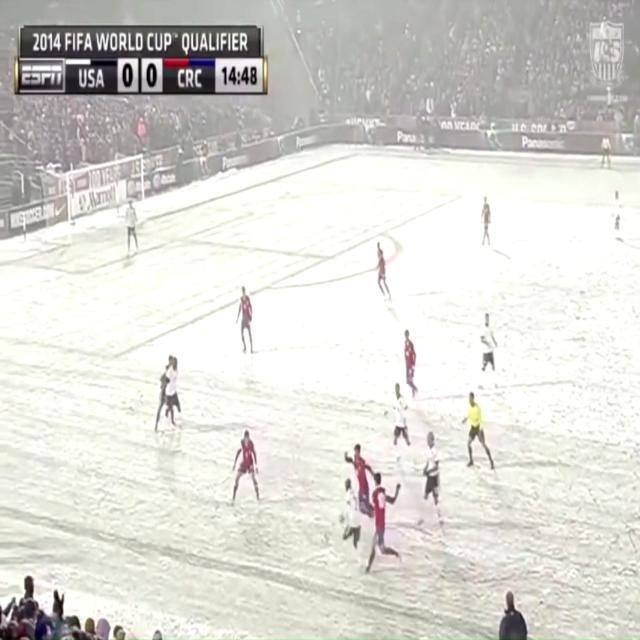ball: (337, 511, 347, 529)
goalkeeper: (123, 194, 144, 262)
player: (420, 417, 449, 541), (369, 465, 400, 577), (231, 424, 263, 516), (476, 297, 504, 394), (352, 434, 382, 522), (387, 373, 417, 461), (398, 324, 423, 401), (343, 475, 365, 561), (237, 287, 262, 358), (372, 238, 396, 308), (157, 354, 175, 434), (478, 186, 498, 256), (166, 358, 184, 427), (610, 191, 628, 251)
referee: (459, 390, 498, 478), (598, 131, 616, 177)
